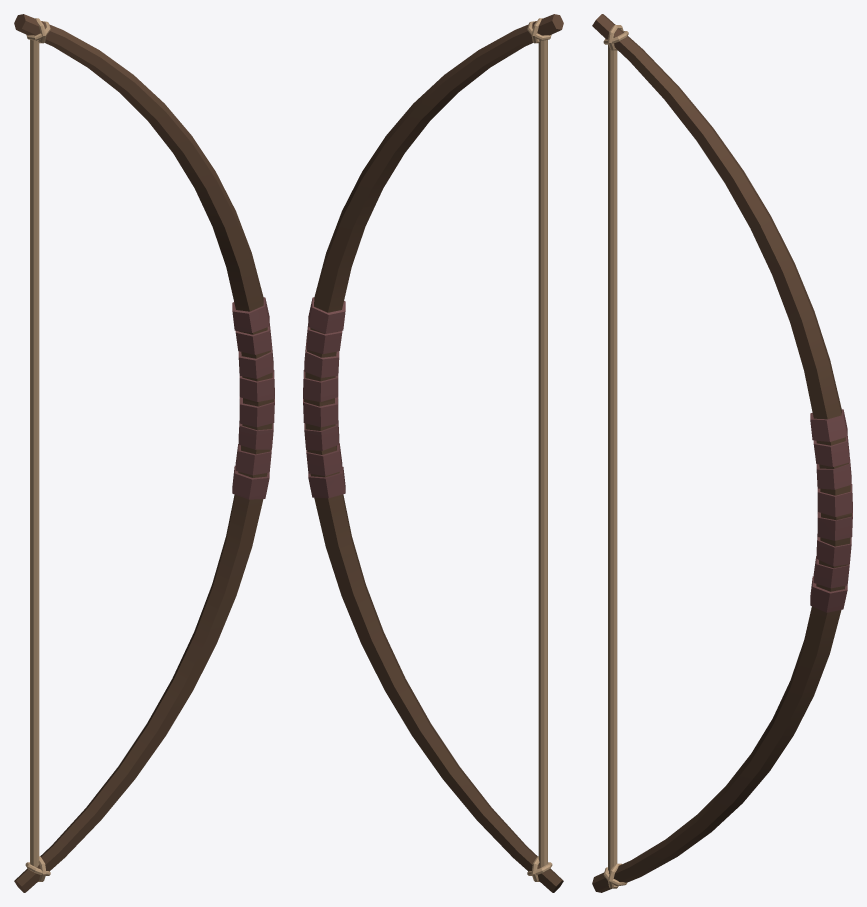
File: Bow_01.glb
3 renders of one model, left to right at view 1: azimuth 30°, elevation 25°; view 2: azimuth 150°, elevation 25°; view 3: azimuth 330°, elevation 25°, orthographic.
Parts seen in each view (by area): view 1: Bow_01; view 2: Bow_01; view 3: Bow_01.
Boxes of the visible parts, left/top/right/bottom form: Bow_01: left=14, top=14, right=274, bottom=892; Bow_01: left=303, top=14, right=563, bottom=892; Bow_01: left=592, top=14, right=852, bottom=892.
Size of the model in its own units: 0.3109 by 1.01 by 0.0368.
Materials: 1 (1 with a texture image).
